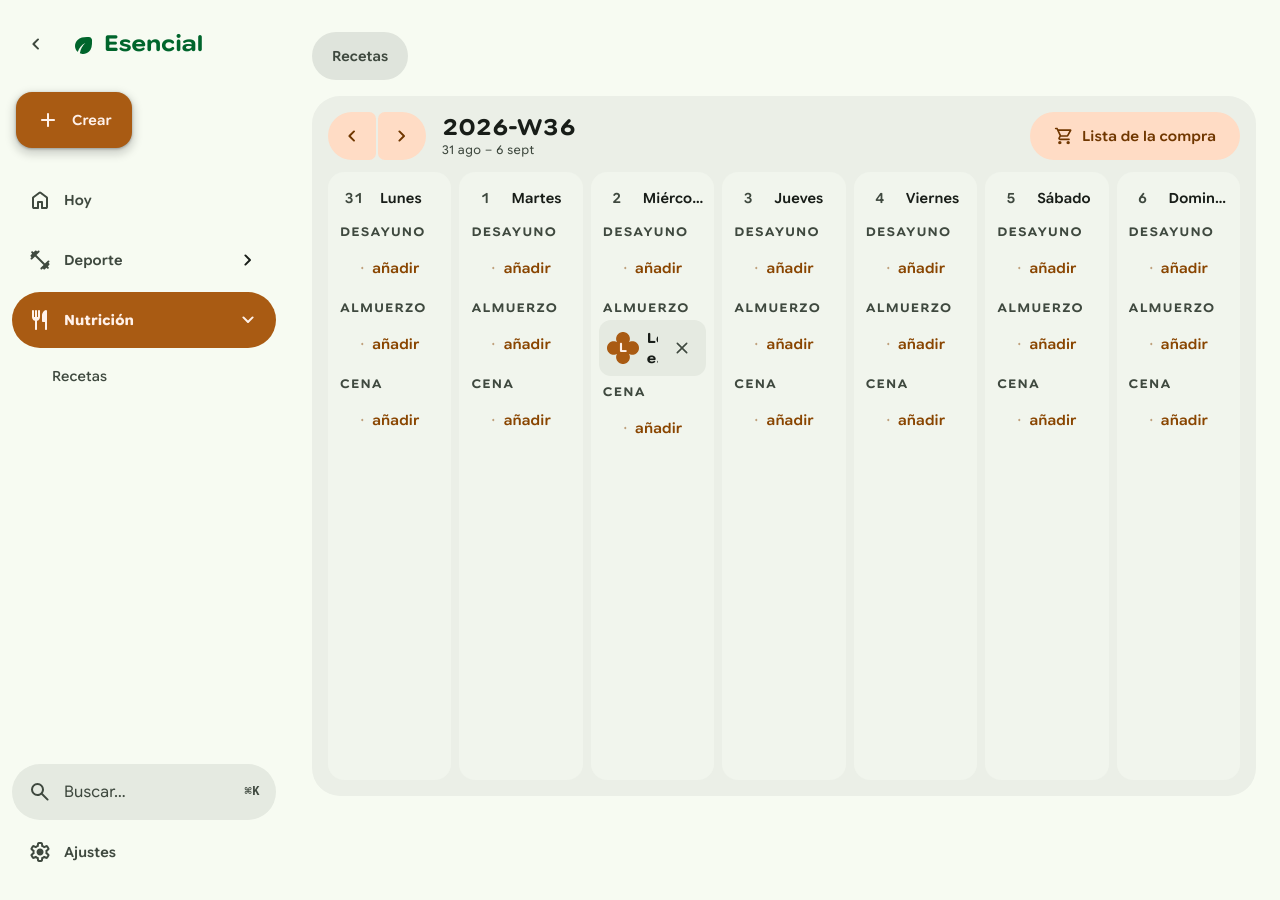
it: tooltip de la comida › sin foto muestra el monograma y el nombre
Hover over the link "Lentejas estofadas con chorizo y verduras de temporada".
mouse_move(632, 348)  # box [603,324,662,372]
Wait 500 ms
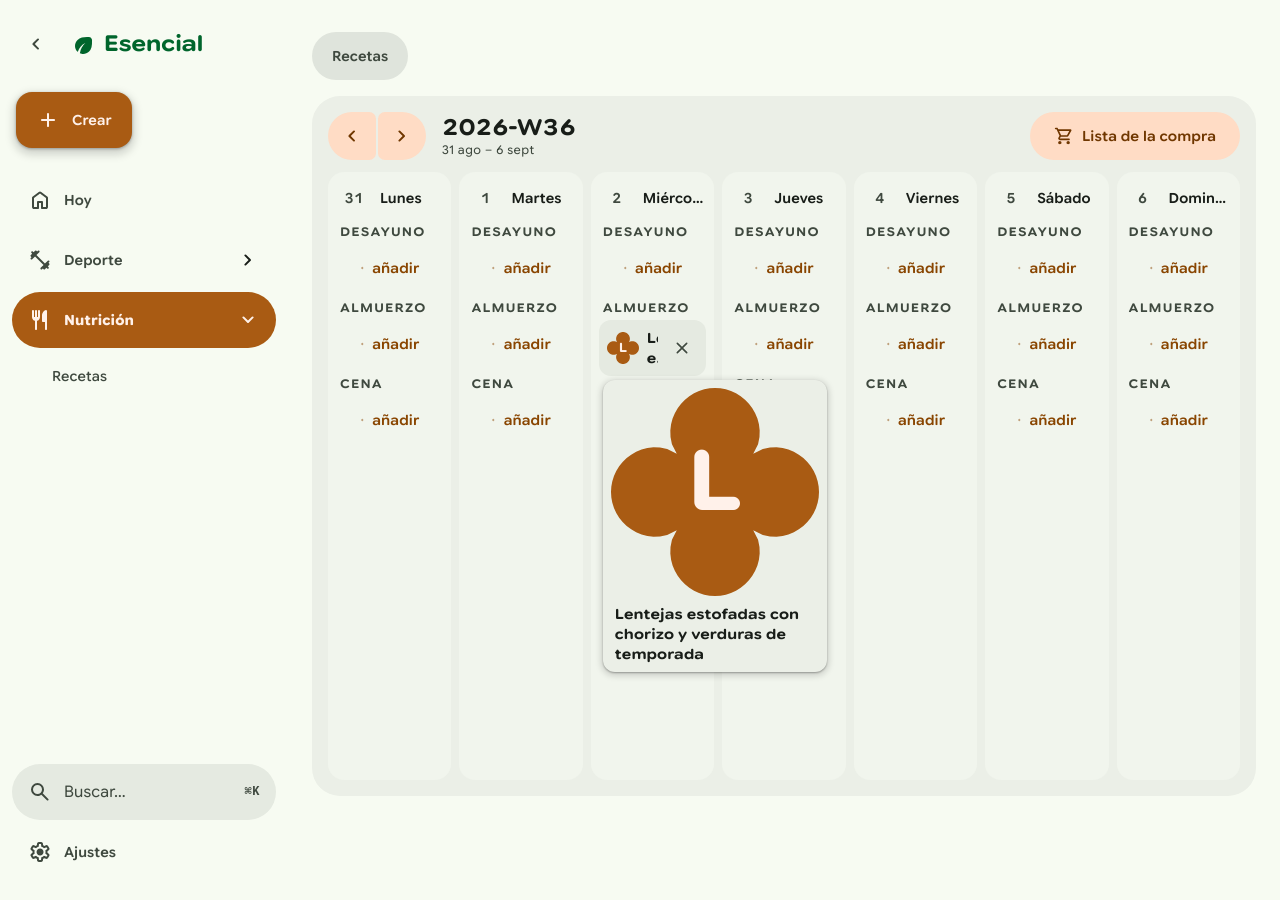
Result: the 2nd text "L" is shown at [688,430,741,534]
Result: the 2nd text "Lentejas estofadas con chorizo y verduras de temporada" is shown at [611,604,819,664]
